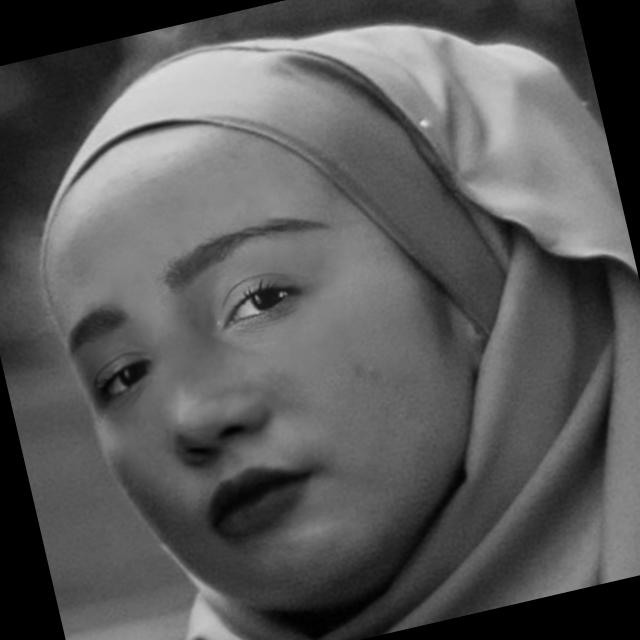face: (0, 91, 545, 640)
